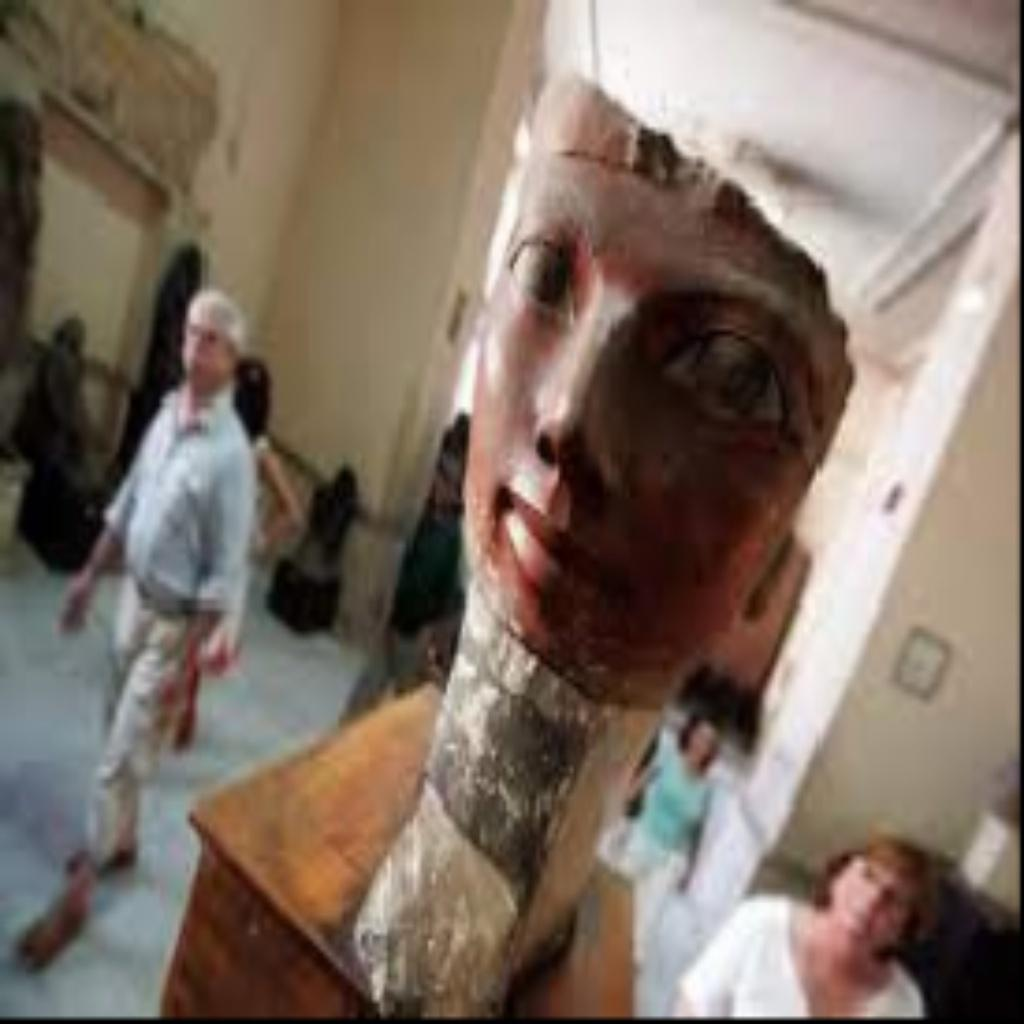Hatshepsut face: (350, 78, 860, 1012)
